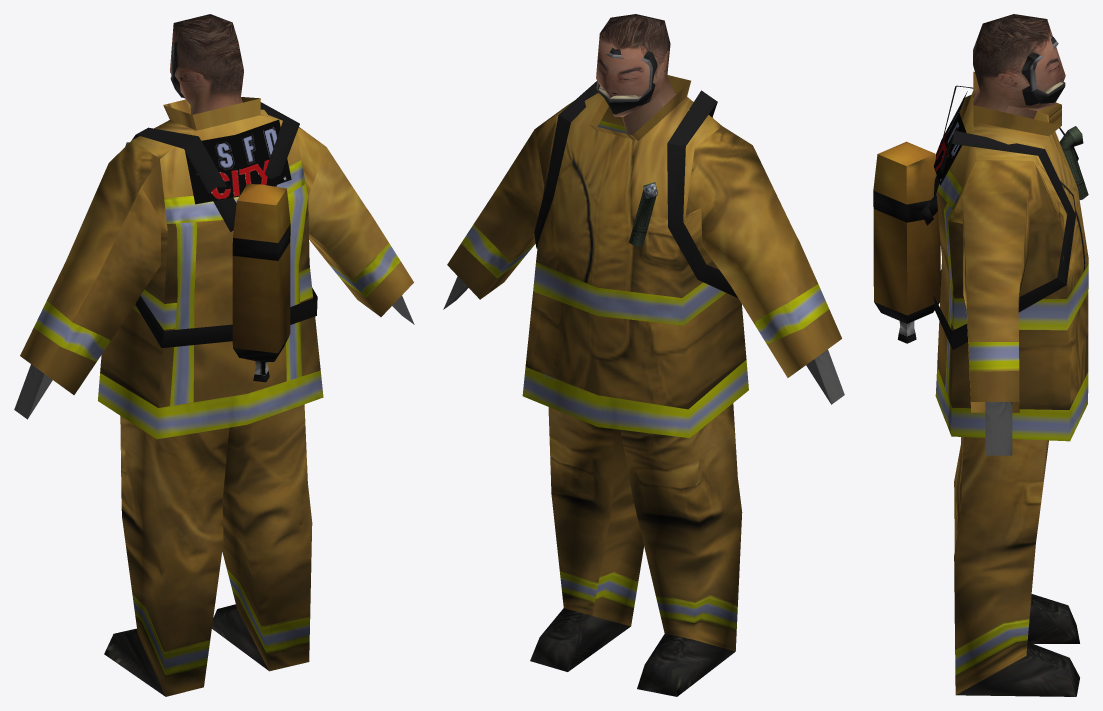
File: s_m_y_fireman_01.glb
The picture shows the model from 3 angles, left to right: view 1: azimuth 30°, elevation 25°; view 2: azimuth 150°, elevation 25°; view 3: azimuth 270°, elevation 25°; orthographic projection.
Visible parts, largest first — view 1: SKEL_ROOT; view 2: SKEL_ROOT; view 3: SKEL_ROOT.
Part boxes in pixels (x1,y1,x2,y2): SKEL_ROOT: (14, 14, 414, 696); SKEL_ROOT: (443, 14, 844, 696); SKEL_ROOT: (873, 14, 1088, 696).
Size of the model in its own units: 1.17 by 1.84 by 0.561.
Materials: 5 (5 with a texture image).
